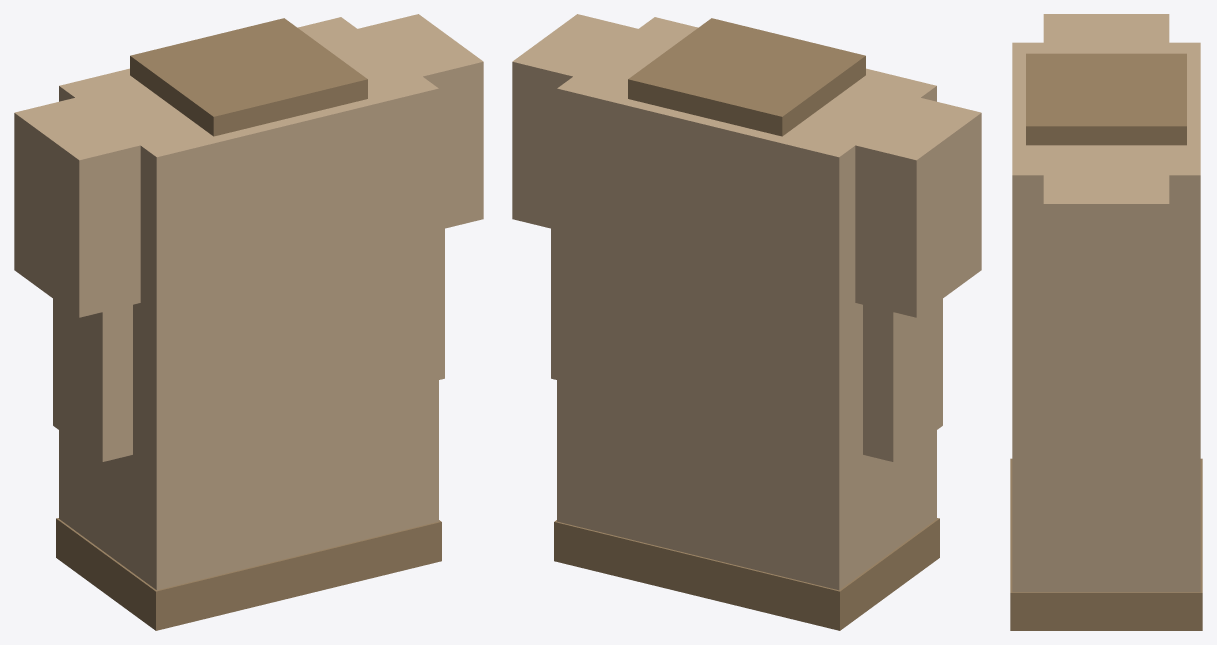
The model's file is equip_body_bronze_platebody.glb.
3 views of the same model, side by side, from view 1: azimuth 30°, elevation 25°; view 2: azimuth 150°, elevation 25°; view 3: azimuth 270°, elevation 25° (orthographic). The views are drawn at different scales.
Visible parts, largest first — view 1: equip_body_bronze_platebody; view 2: equip_body_bronze_platebody; view 3: equip_body_bronze_platebody.
Boxes of the visible parts, <box> form: equip_body_bronze_platebody: <box>14,14,483,630</box>; equip_body_bronze_platebody: <box>512,14,981,630</box>; equip_body_bronze_platebody: <box>1010,14,1202,630</box>.
Bounding box in the file's own units: 0.43 × 0.5 × 0.184.
